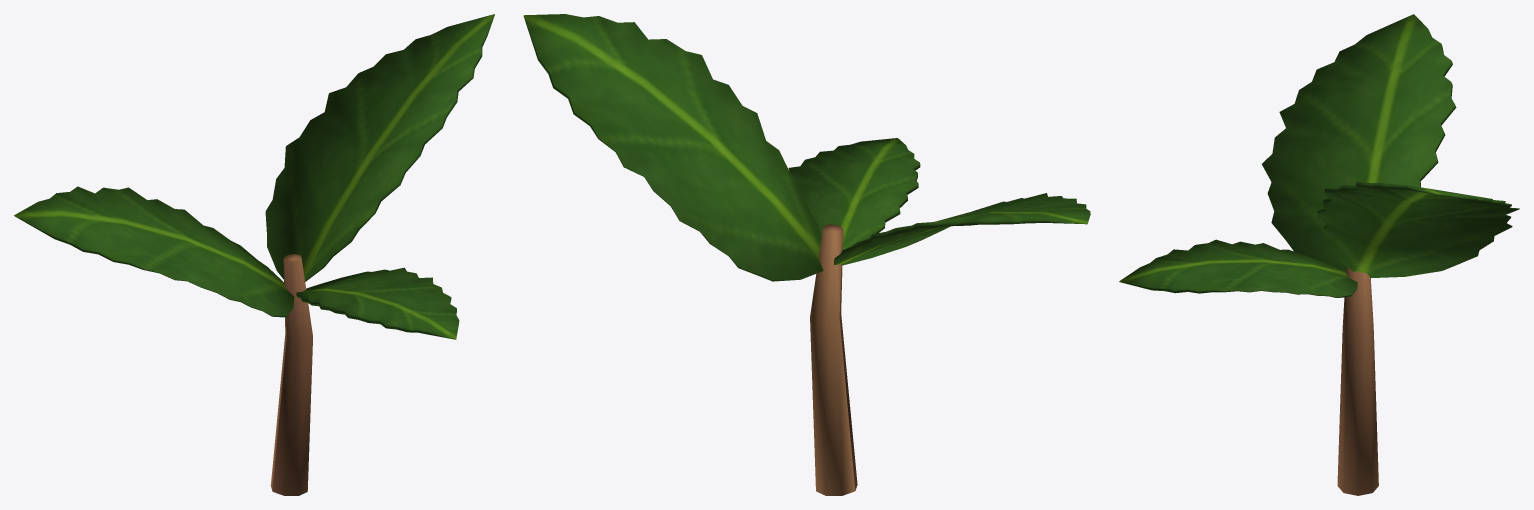
The model's file is NP_Blackberry_Sprout.fbx.
3 renders of one model, left to right at view 1: azimuth 30°, elevation 25°; view 2: azimuth 150°, elevation 25°; view 3: azimuth 270°, elevation 25°, orthographic. The views are drawn at different scales.
Visible parts, largest first — view 1: NP_Blackberry_Sprout; view 2: NP_Blackberry_Sprout; view 3: NP_Blackberry_Sprout.
Boxes of the visible parts, <box> form: NP_Blackberry_Sprout: <box>14,14,494,495</box>; NP_Blackberry_Sprout: <box>523,14,1090,495</box>; NP_Blackberry_Sprout: <box>1119,14,1519,495</box>.
Bounding box in the file's own units: 29.57 × 22.42 × 19.33.
Materials: 1 (1 with a texture image).
